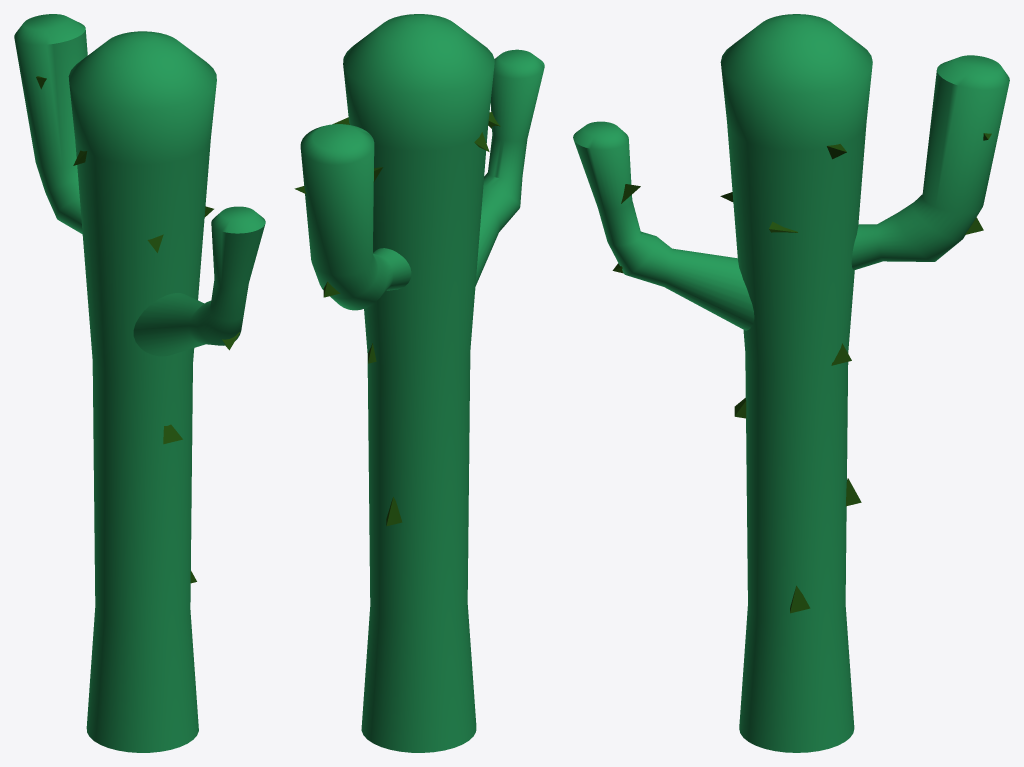
The model's file is Cactus2.fbx.
3 renders of one model, left to right at view 1: azimuth 30°, elevation 25°; view 2: azimuth 150°, elevation 25°; view 3: azimuth 270°, elevation 25°, orthographic. The views are drawn at different scales.
Visible parts, largest first — view 1: Cylinder; view 2: Cylinder; view 3: Cylinder.
Part boxes in pixels (x1,y1,x2,y2): Cylinder: (14, 14, 265, 752); Cylinder: (300, 14, 544, 752); Cylinder: (573, 14, 1009, 752).
Bounding box in the file's own units: 163 × 806 × 451.
